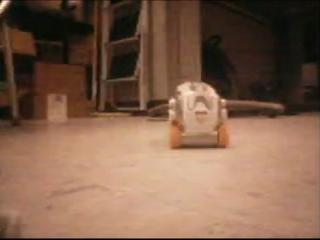cozmo: (166, 80, 235, 149)
